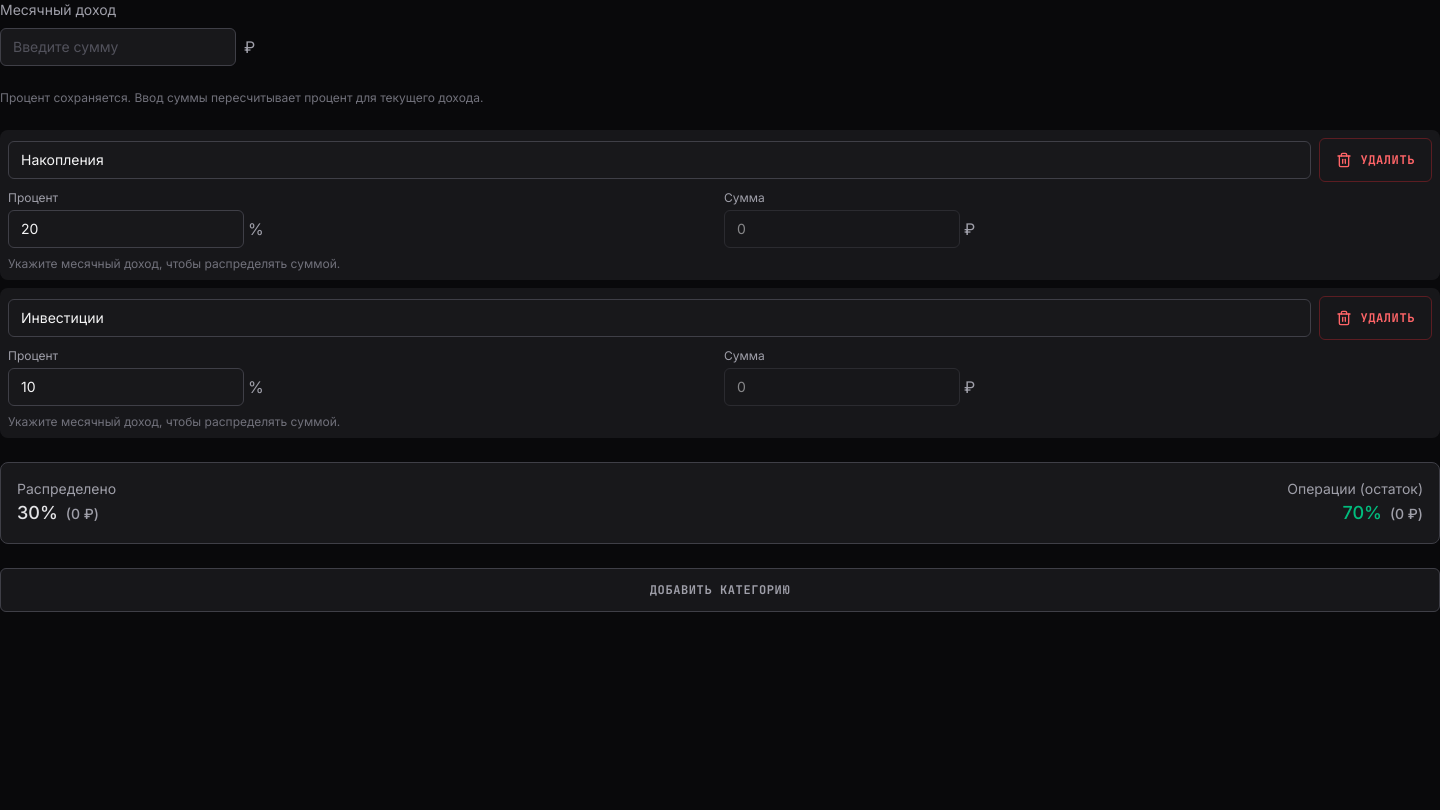
Test: BucketEditor › does not delete a bucket when deletion is canceled
This screenshot has width=1440, height=810.
Click the 1st button "Удалить".
click(1376, 160)  # box [1319, 138, 1432, 182]
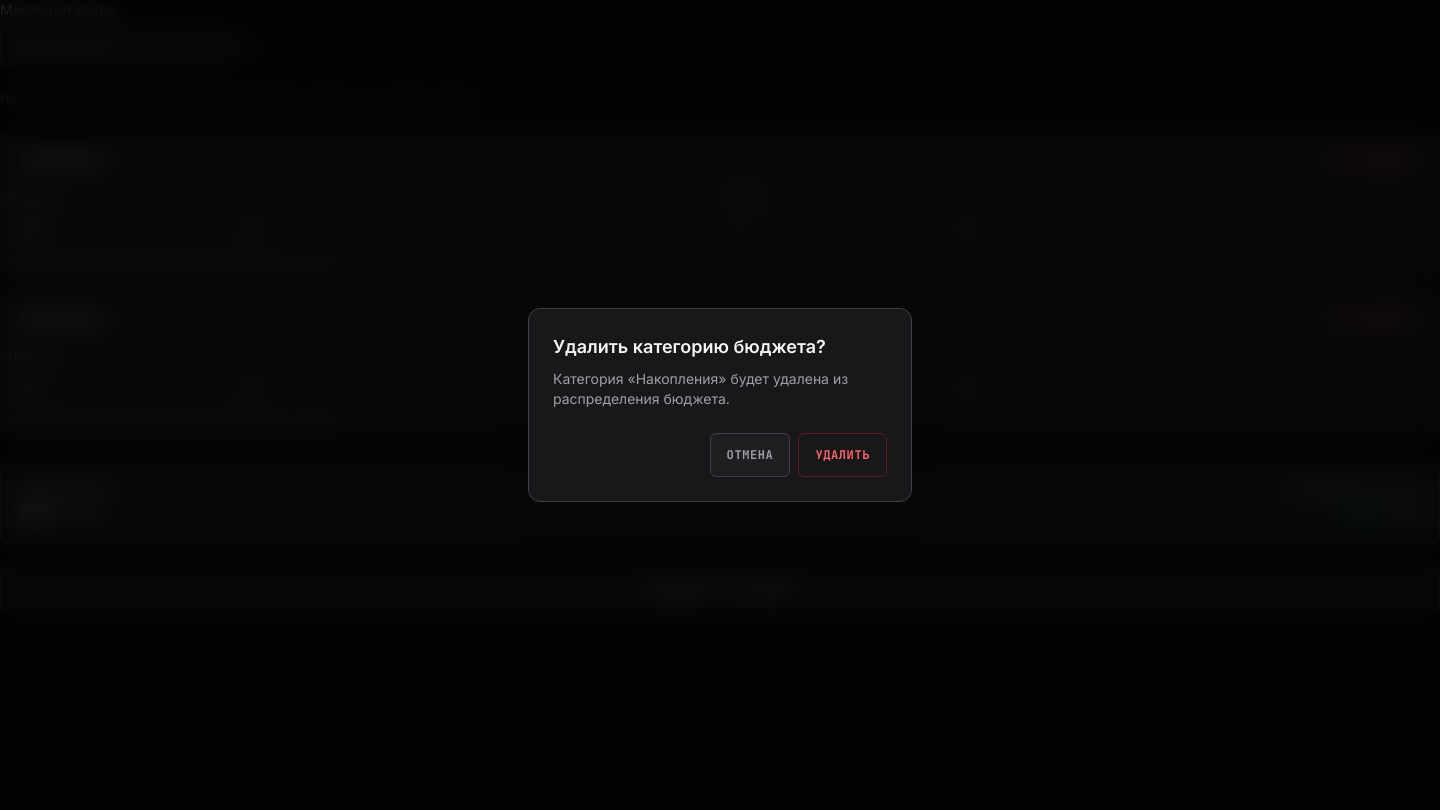
Click the button "Отмена".
click(750, 455)  # box [710, 433, 790, 477]
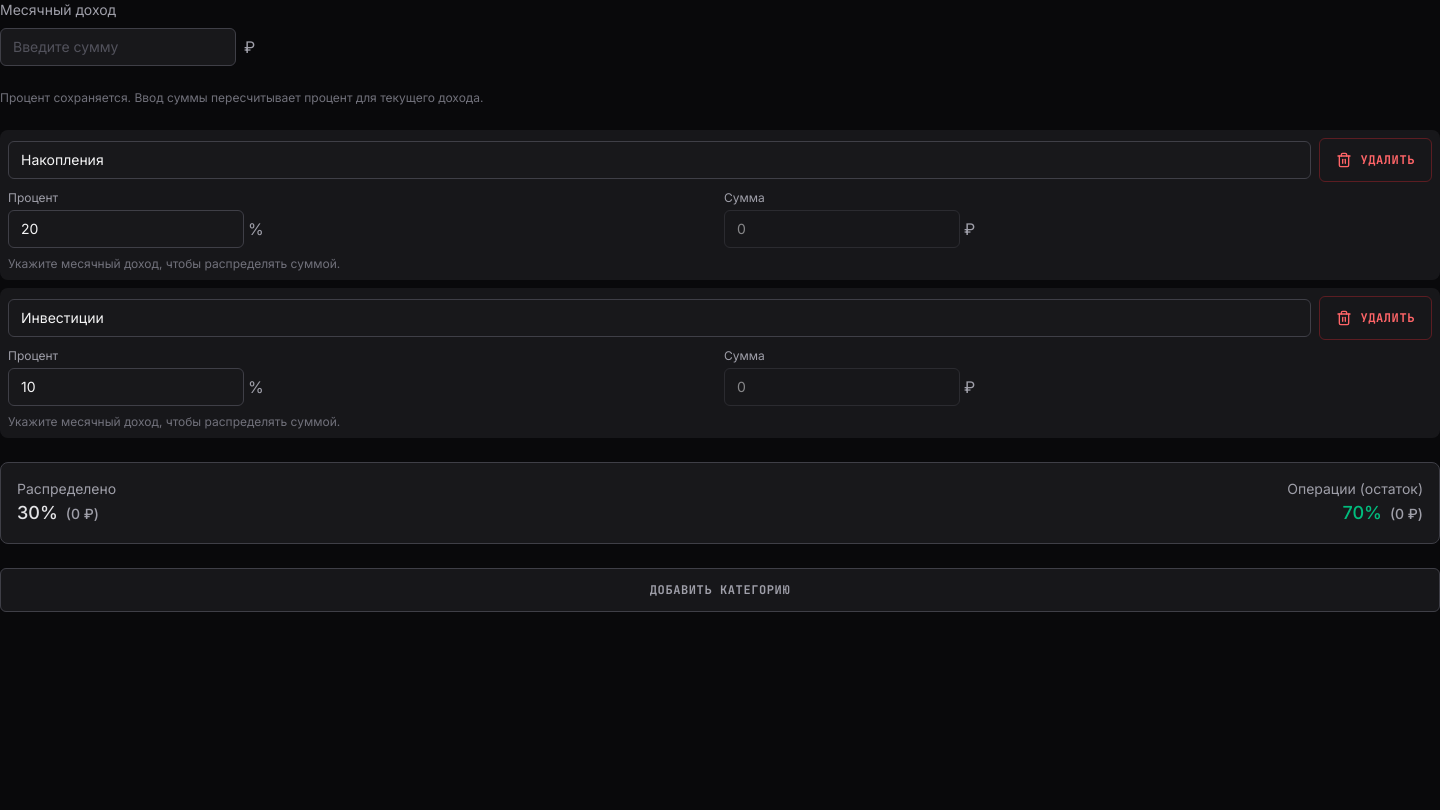
Result: the dialog is gone
